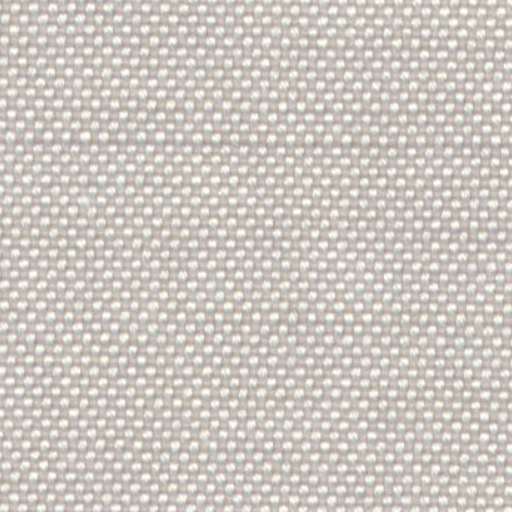TuoSha: (10, 108, 497, 166)
